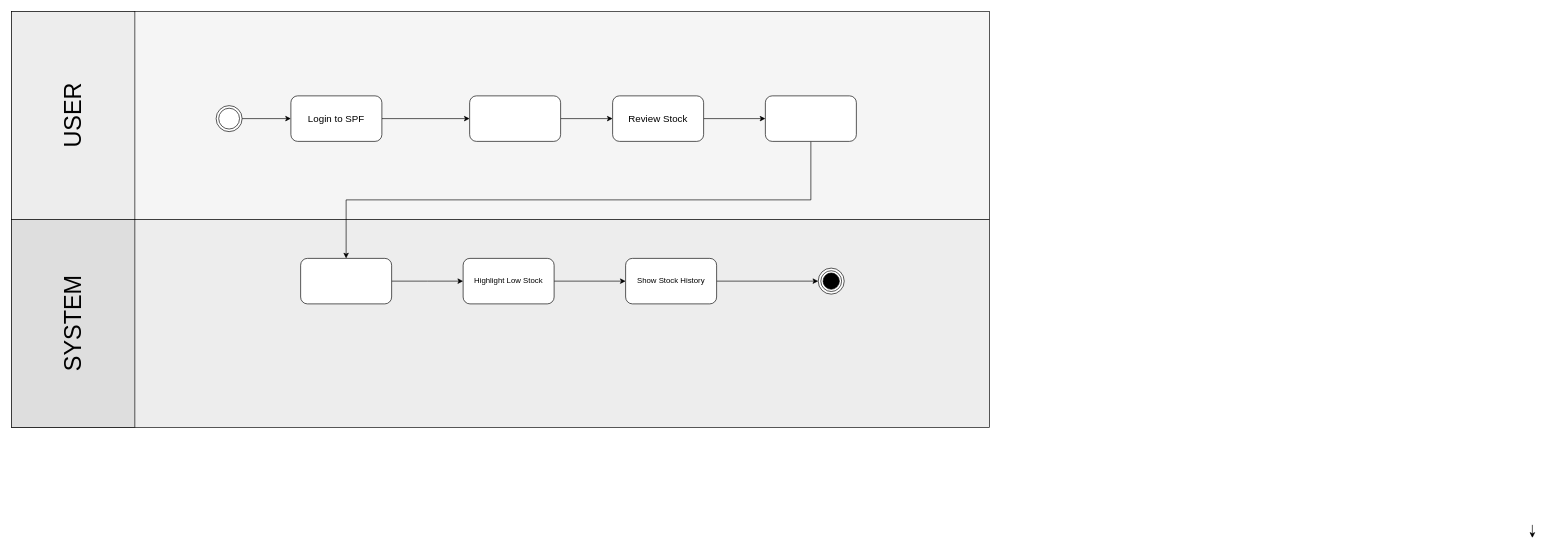
Image size: 1549x554. Some labels were removed from this diagram. Here are the shapes that lost their labels. From the top down, the centre of each, then its label:
[515,118]: Open Inventory Section
[810,118]: Select Material
[346,281]: Display Stock List
